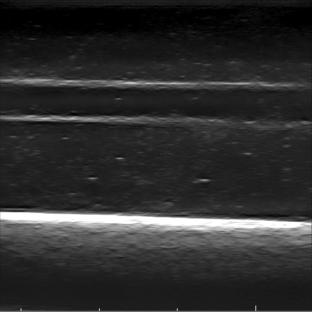vessel: (4, 79, 311, 129)
